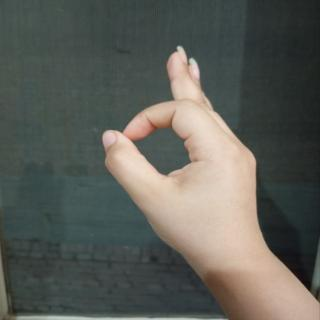Space: (92, 39, 290, 273)
